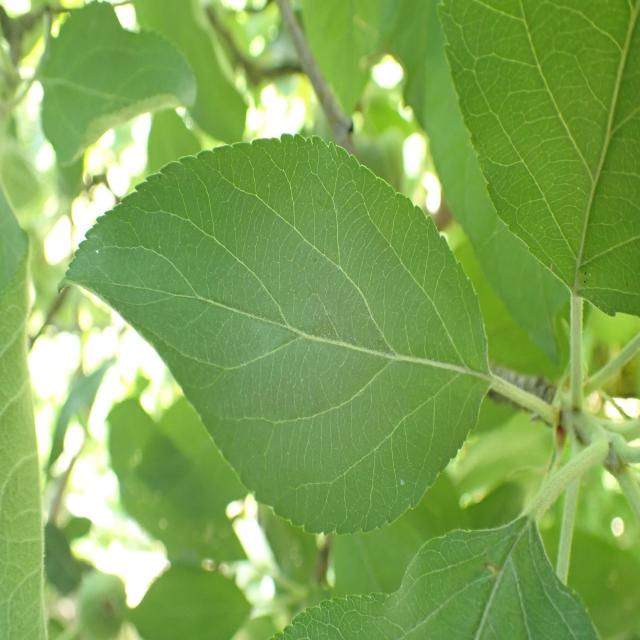healthy: (59, 132, 492, 536), (436, 0, 640, 318), (271, 511, 601, 640), (35, 0, 196, 167), (1, 184, 48, 640)
